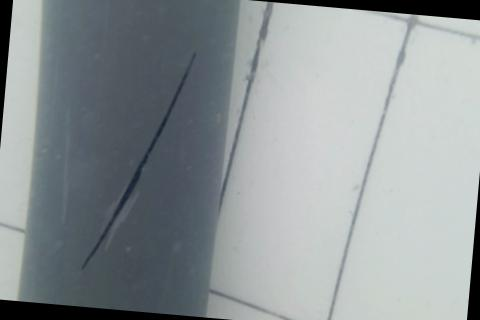keretakan: (77, 41, 197, 283)
